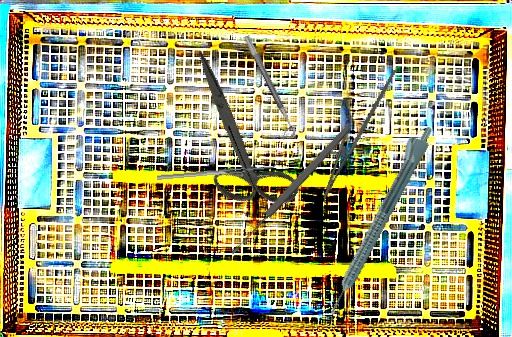Fixation Ring: (234, 34, 299, 142)
Handpiece: (317, 119, 437, 318)
Iris Scissors: (142, 50, 334, 229)
Needle Holder: (312, 59, 397, 206)
Spatula Surgical: (156, 160, 281, 180)
Surgical Spoon: (227, 123, 354, 257)
